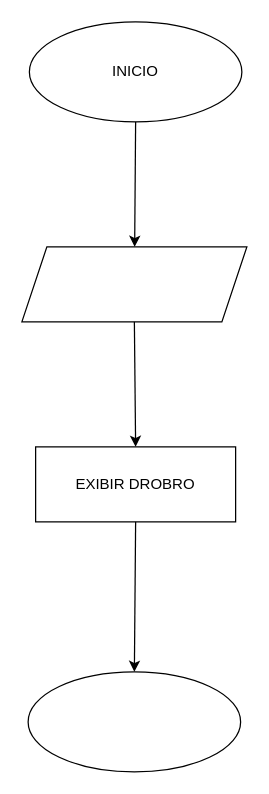
The diagram is 269 pixels wide and 794 high, and some of its shapes have lost their labels. The centre of each missing label's shape, as x and y in pixels:
FIM: (x=134, y=721)
LER NUMERO DO USURIO: (x=134, y=284)
